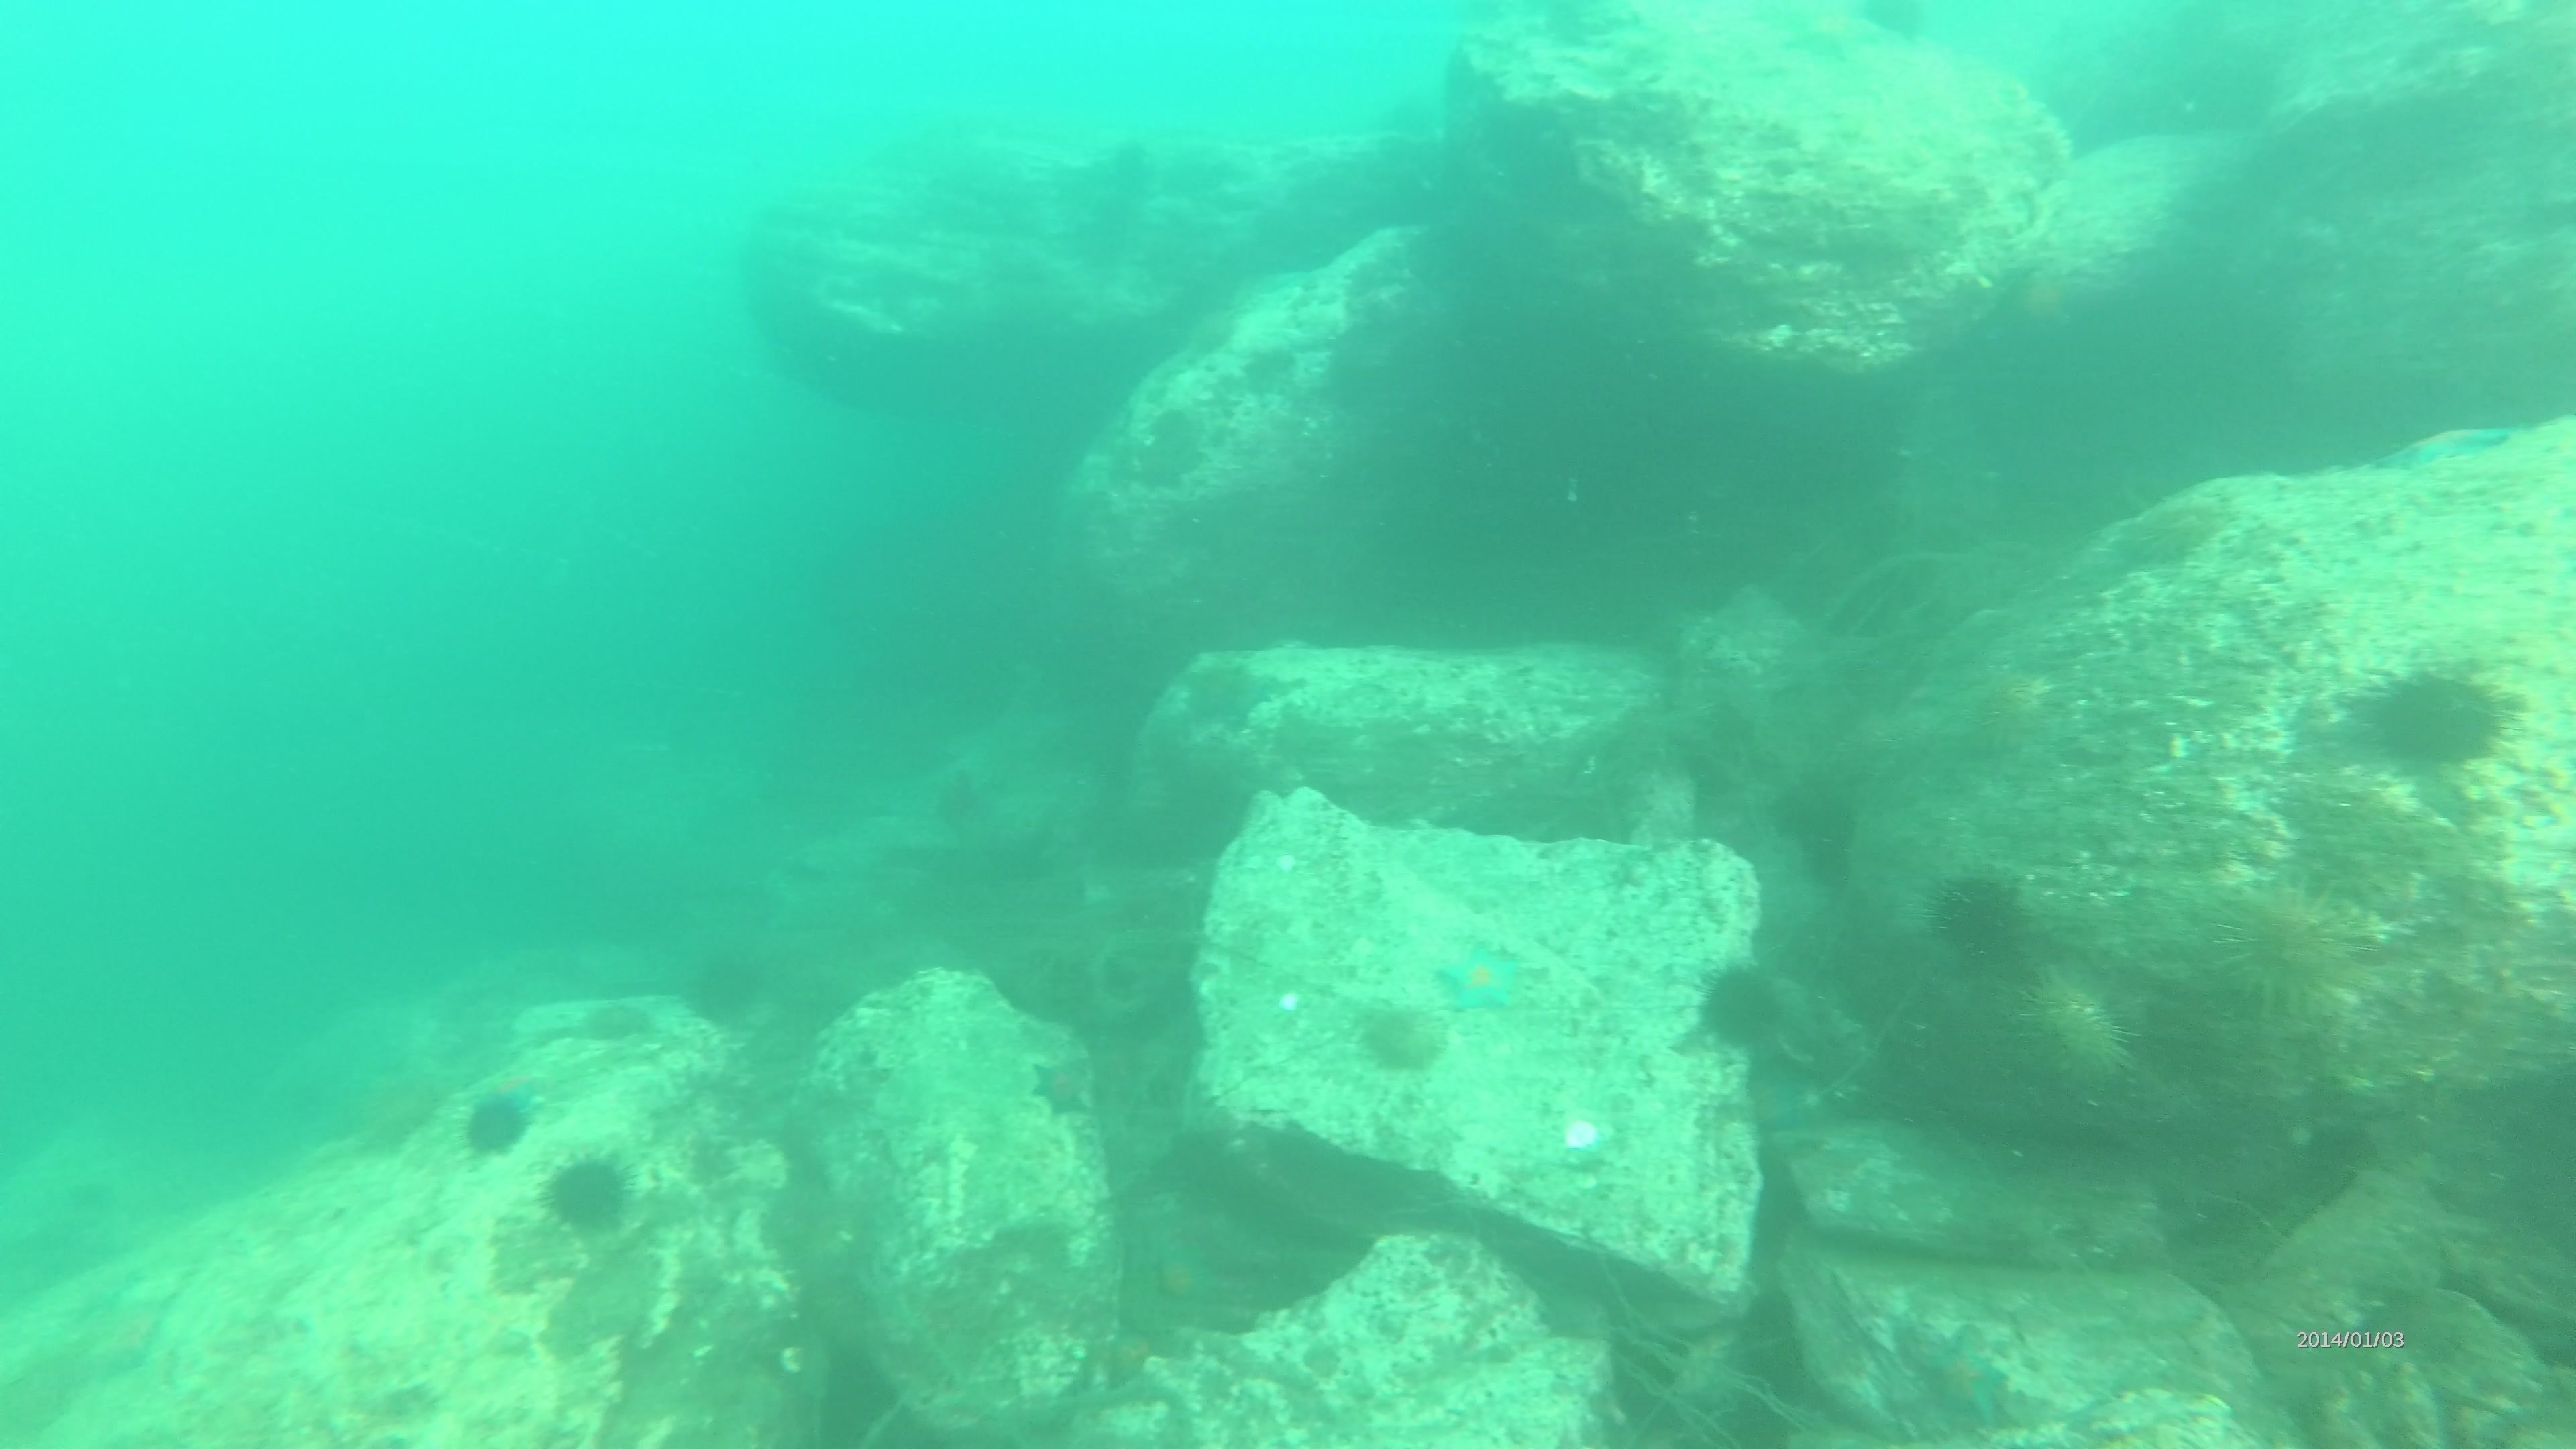echinus: (2204, 876, 2374, 1021), (2355, 655, 2521, 777), (2013, 959, 2143, 1102), (1921, 863, 2038, 975), (1691, 955, 1796, 1058), (336, 1058, 439, 1162), (536, 1145, 640, 1242), (678, 941, 773, 1033), (1348, 994, 1449, 1081), (453, 1083, 538, 1166), (584, 1000, 648, 1046)
starfish: (1902, 1318, 2024, 1438), (64, 1274, 184, 1387), (1173, 648, 1276, 736), (1430, 938, 1534, 1021), (1771, 5, 1893, 69), (2385, 418, 2516, 476), (1023, 1042, 1102, 1123), (465, 1076, 557, 1111)
